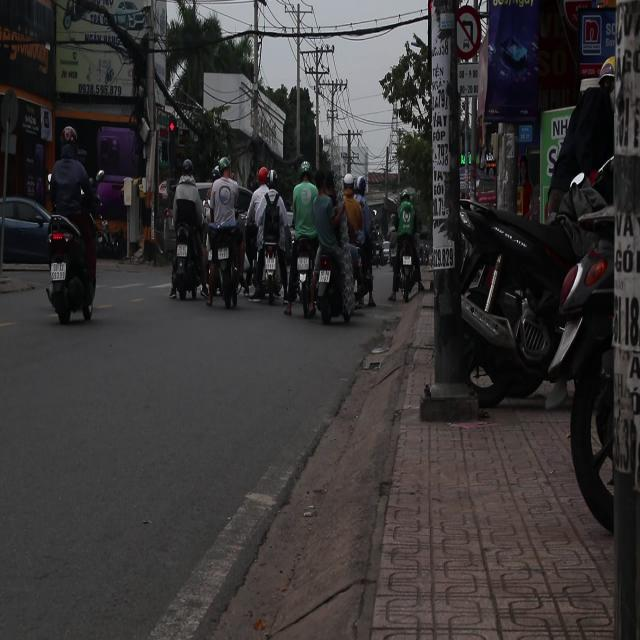motorbike: (44, 207, 98, 327), (303, 242, 356, 325), (172, 215, 202, 311), (210, 224, 242, 310), (258, 230, 284, 302), (398, 236, 418, 306)
